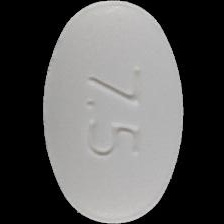42291-176: (0, 0, 224, 224)
